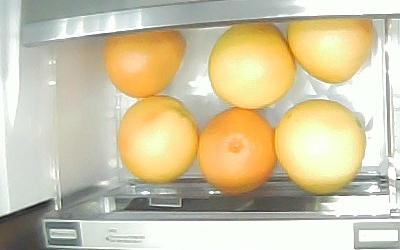grapefruit: (276, 99, 366, 195), (208, 21, 296, 109), (119, 96, 199, 182), (197, 108, 276, 194), (287, 17, 373, 83), (104, 29, 186, 98)
